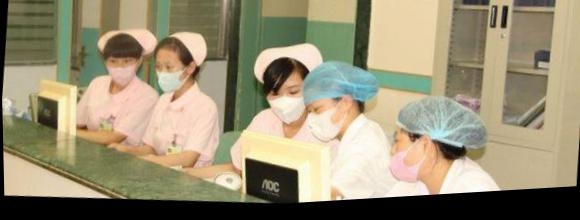OK: (260, 76, 309, 134), (302, 104, 349, 151), (101, 46, 146, 92), (152, 57, 192, 97)
WRONG: (387, 137, 438, 191)
